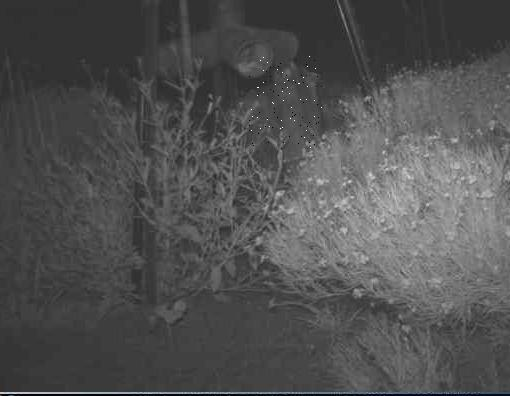Raccoon: (249, 55, 322, 149)
